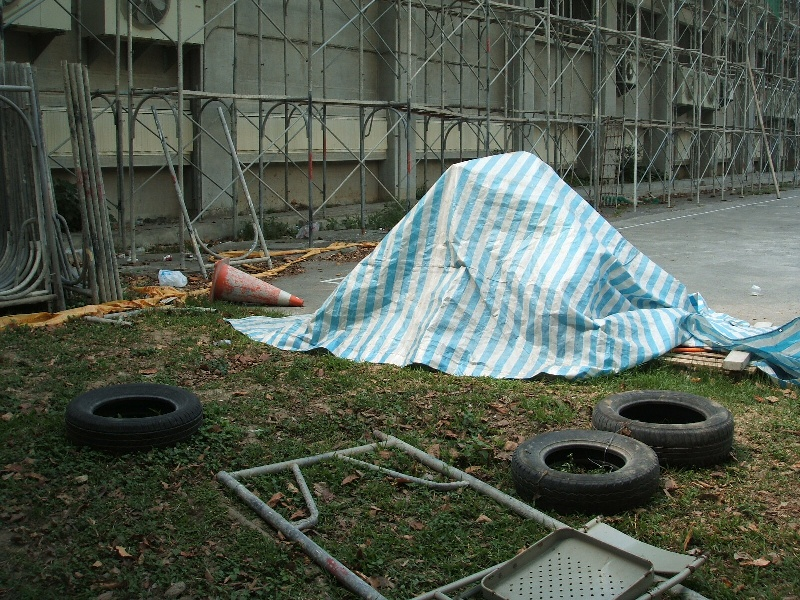plastic_bag: (259, 152, 773, 378)
tire: (509, 427, 659, 517), (591, 389, 732, 468), (65, 384, 203, 454)
